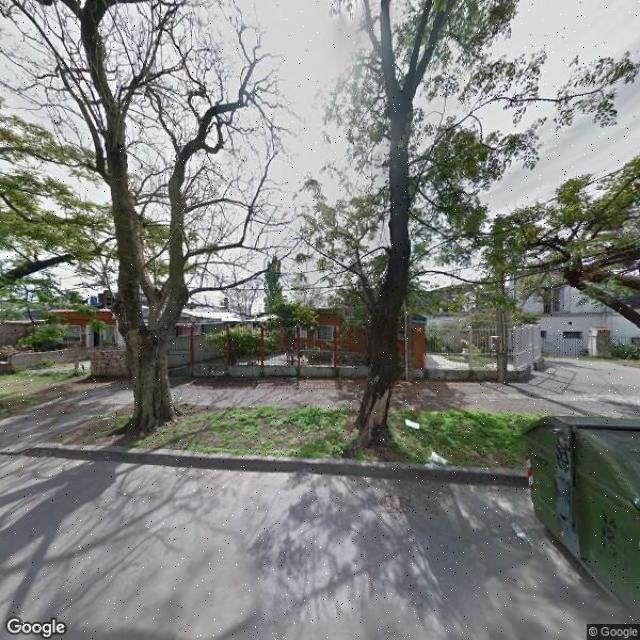garbage container: (513, 412, 640, 620)
